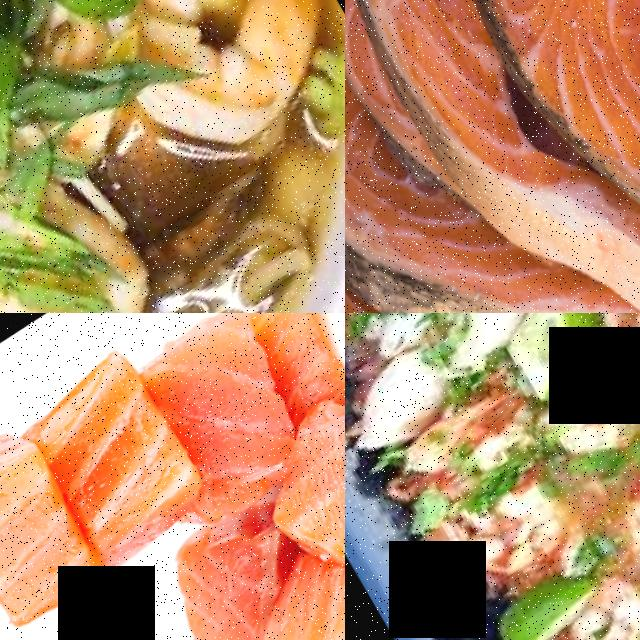lemon: (490, 313, 615, 416), (485, 564, 602, 640)
salmon: (388, 0, 640, 243), (105, 313, 329, 546), (6, 339, 209, 586), (345, 0, 558, 225), (345, 0, 475, 313), (232, 338, 345, 640), (0, 404, 114, 640), (130, 507, 313, 640)
shrimp: (120, 0, 345, 181)
